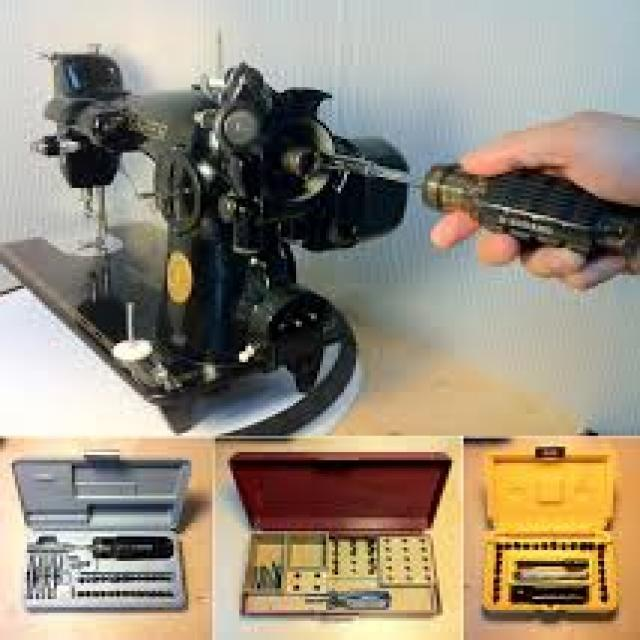screwdriver: (311, 136, 640, 267), (16, 524, 184, 565), (282, 588, 402, 616)
